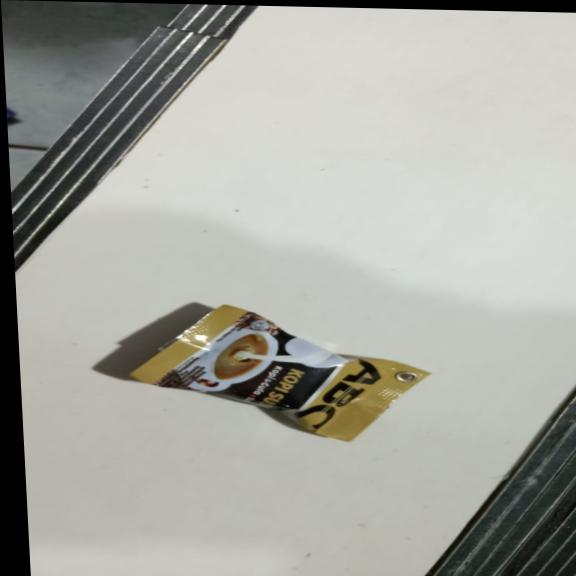Plastik: (122, 302, 433, 446)
